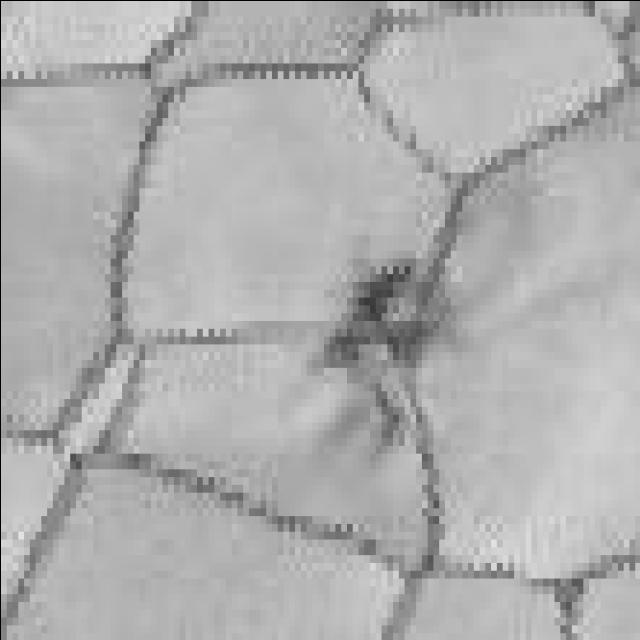good_void: (322, 247, 449, 451)
